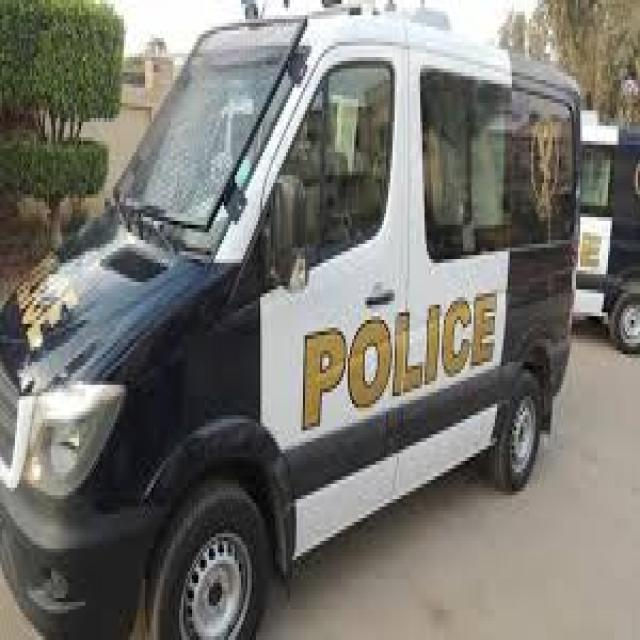police-car: (0, 0, 582, 636)
